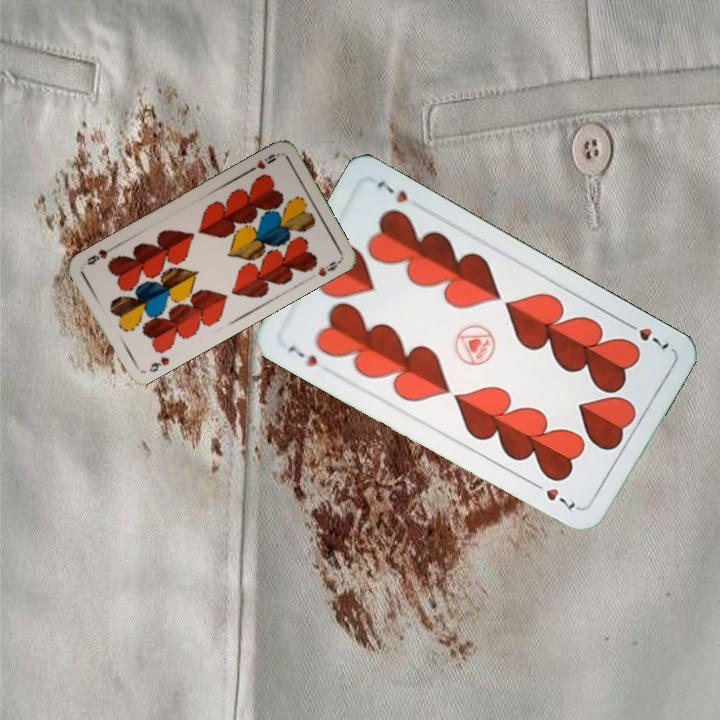H7: (620, 317, 672, 353), (284, 341, 320, 370)
H9: (244, 149, 282, 175), (145, 352, 172, 375)
